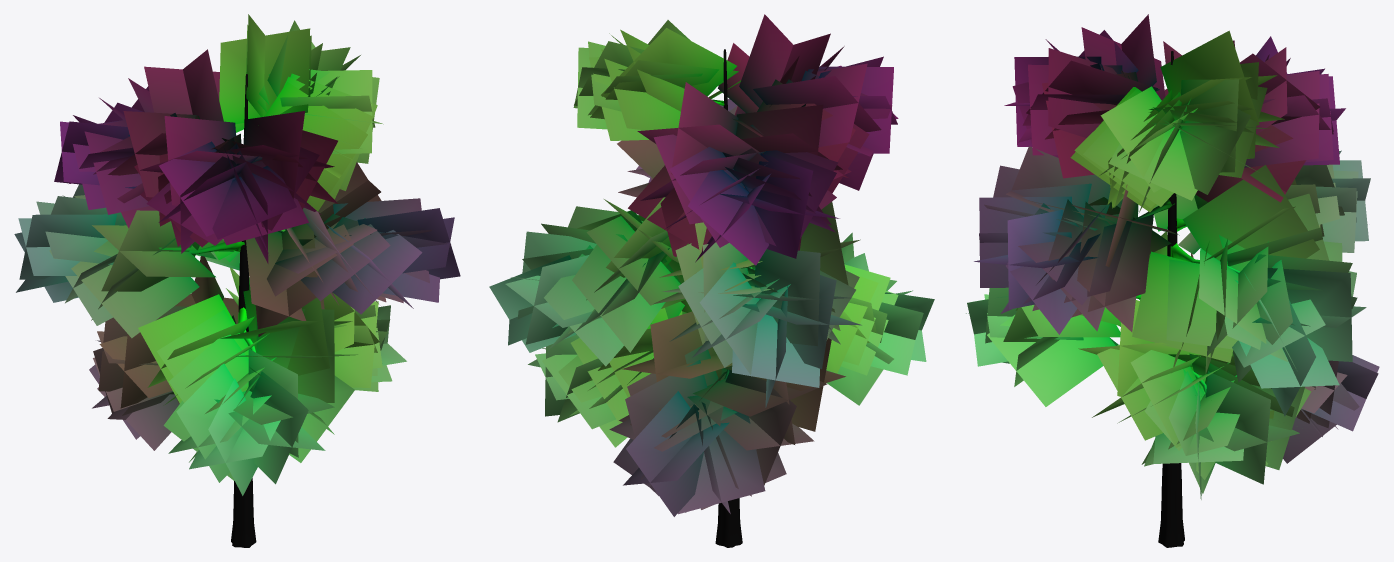
File: M_P14_Tree_2.fbx
3 views of the same model, side by side, from view 1: azimuth 30°, elevation 25°; view 2: azimuth 150°, elevation 25°; view 3: azimuth 270°, elevation 25° (orthographic). The views are drawn at different scales.
Visible parts, largest first — view 1: Tree_2; view 2: Tree_2; view 3: Tree_2.
Boxes of the visible parts, x1,y1,x2,y2 form: Tree_2: [14, 14, 460, 547]; Tree_2: [489, 14, 934, 547]; Tree_2: [966, 14, 1379, 547].
Bounding box in the file's own units: 388 × 558 × 398.
